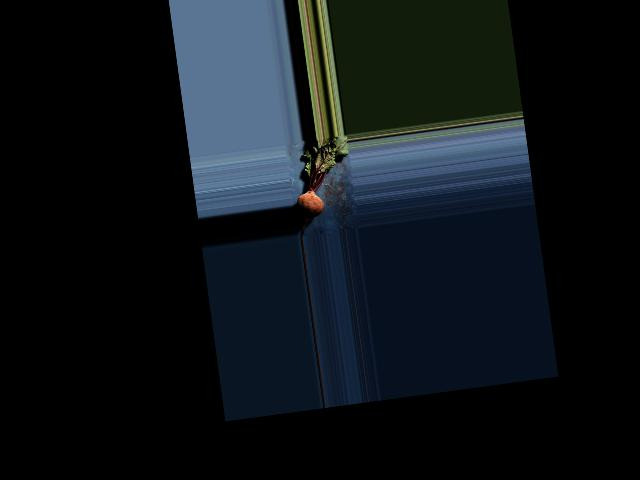beet: (287, 133, 359, 236)
